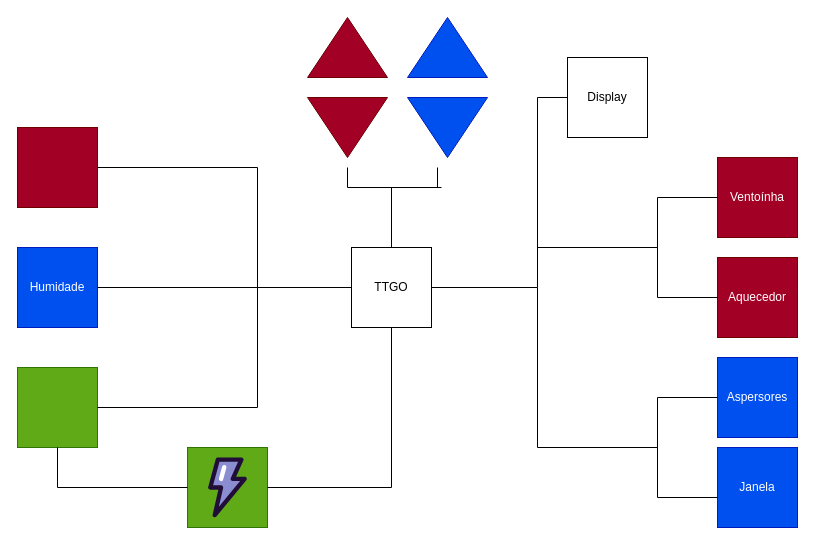
Image size: 815x545. Some labels were removed from this diagram. Here are the shapes that lost their labels. From the top down, the centre of each, then its label:
At point (57, 167): "Temperatura".
At point (57, 407): "Painel Solar".
